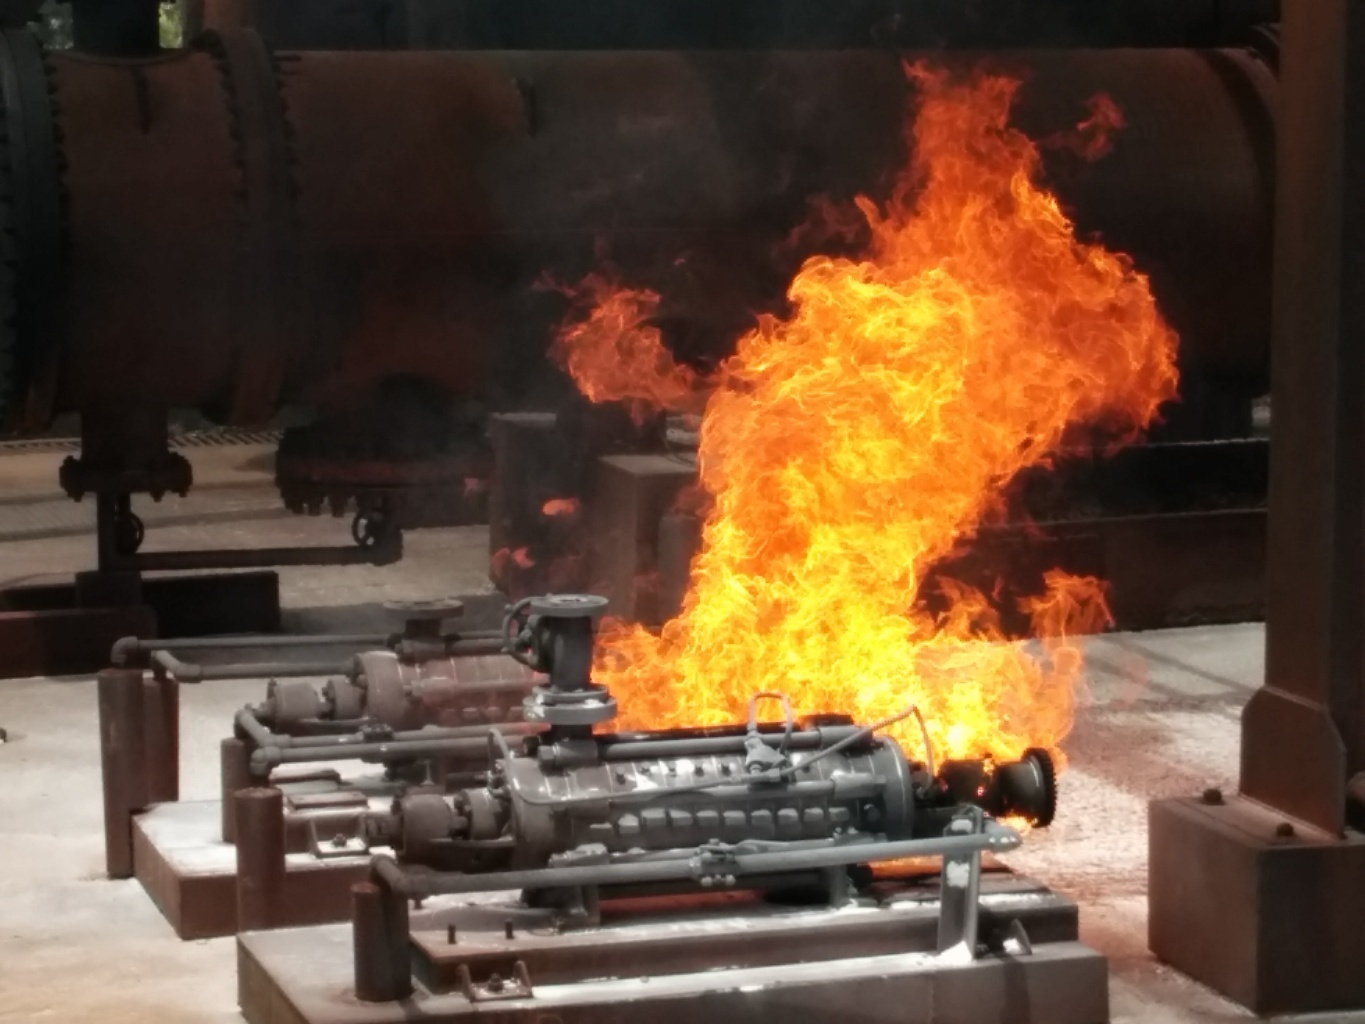fire: (532, 35, 1191, 802)
